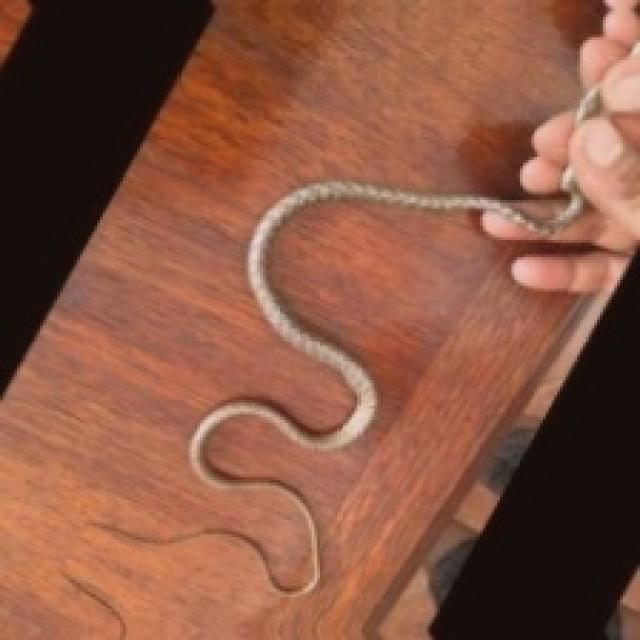philippine whip snake: (189, 180, 584, 594)
